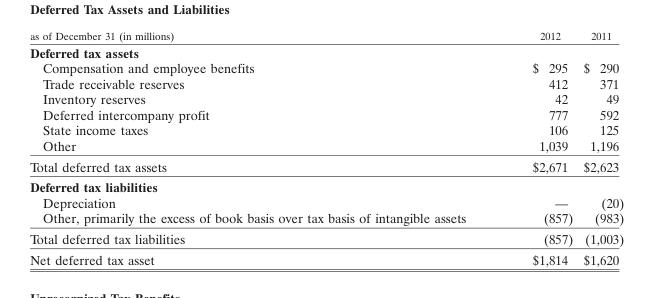table: (29, 28, 623, 266)
table column: (29, 28, 498, 266), (498, 28, 577, 266), (577, 28, 623, 266)
table column header: (29, 28, 623, 42)
table projected row header: (29, 176, 623, 194), (29, 42, 623, 59)
table row: (29, 155, 623, 176), (29, 227, 623, 248), (29, 137, 623, 155), (29, 176, 623, 194), (29, 209, 623, 227), (29, 248, 623, 266), (29, 42, 623, 59), (29, 59, 623, 75), (29, 75, 623, 91), (29, 106, 623, 122), (29, 91, 623, 106), (29, 122, 623, 137), (29, 194, 623, 209), (29, 28, 623, 42)
